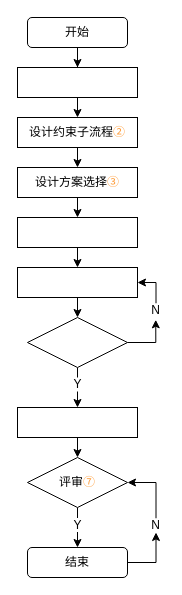
This 182x595 diagram has some shape labels left out. The box of each missing label's shape, as (x1, y1, x2, y2) in pixels:
产品需求分析 ①: (16, 66, 138, 98)
形成架构设计文档 ⑥: (16, 406, 138, 438)
系统总体结构设计 ⑤: (16, 266, 138, 298)
设计策略子流程 ④: (16, 216, 138, 248)
评审: (26, 316, 128, 368)
